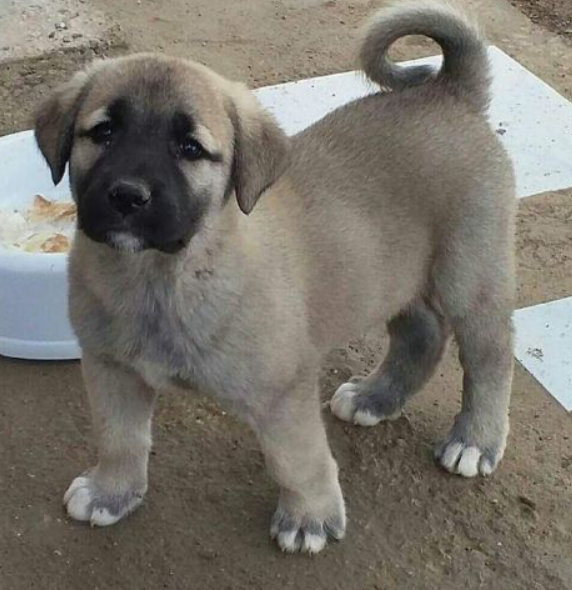dog: (33, 0, 523, 554)
